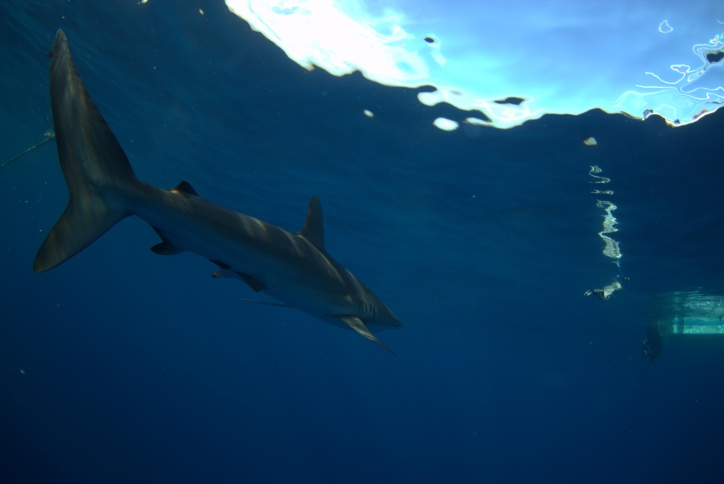Sedoso: (26, 24, 417, 362)
